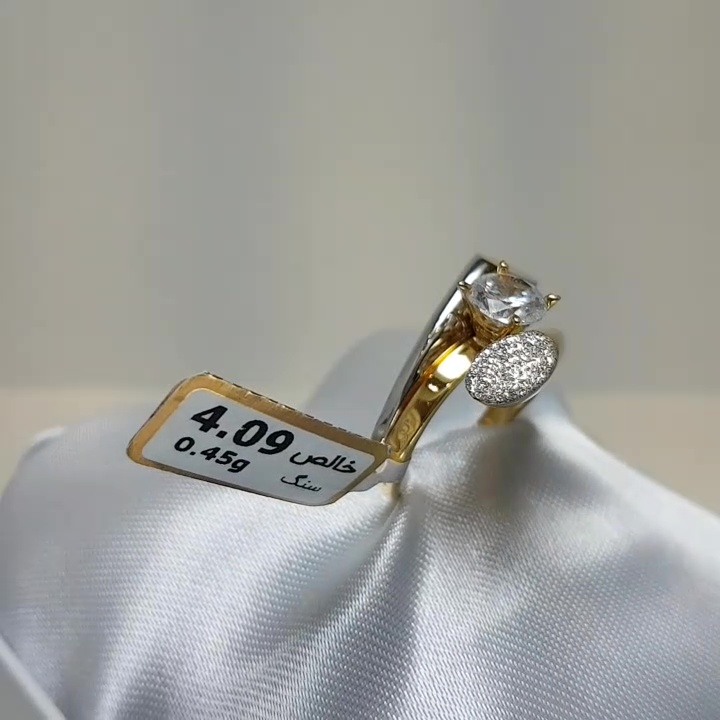Ring 7: (349, 230, 606, 499)
